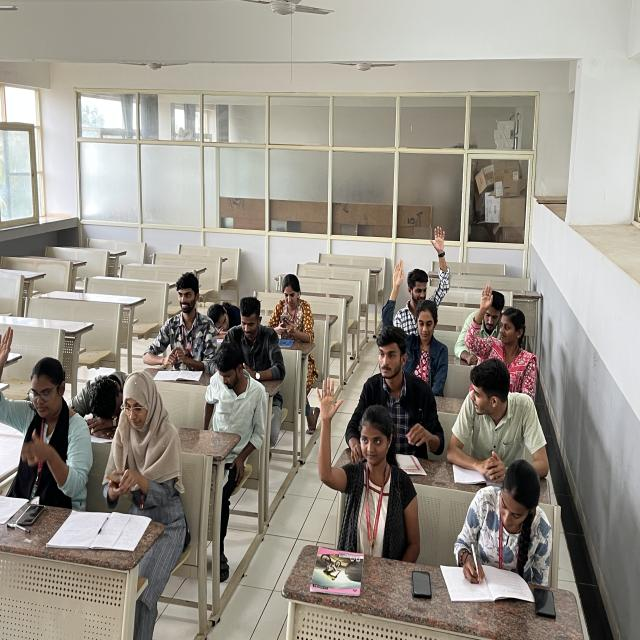Hand Rising: (0, 304, 99, 520), (314, 377, 420, 556), (465, 278, 547, 386), (380, 260, 454, 369), (398, 223, 454, 309)
Reading: (140, 264, 215, 385)
Sleeping: (68, 366, 130, 441), (202, 296, 240, 340)
Using Phone: (100, 369, 190, 514), (228, 291, 288, 386), (263, 273, 319, 352)
Writing: (443, 451, 559, 600)
